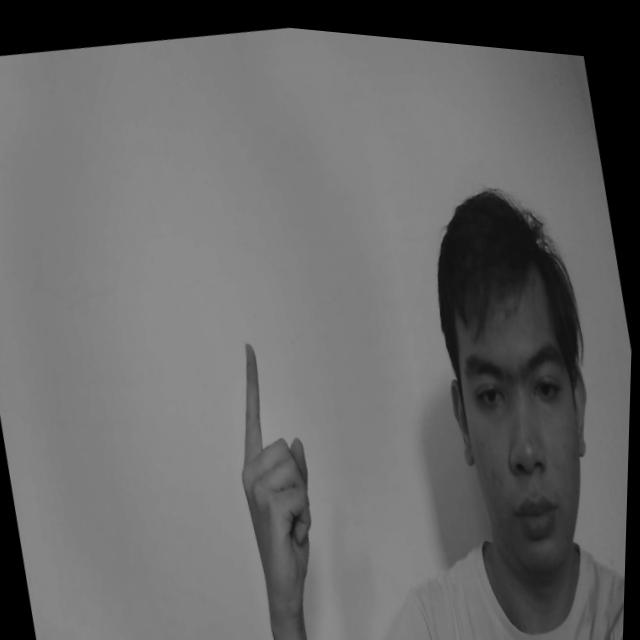D: (216, 327, 342, 615)
